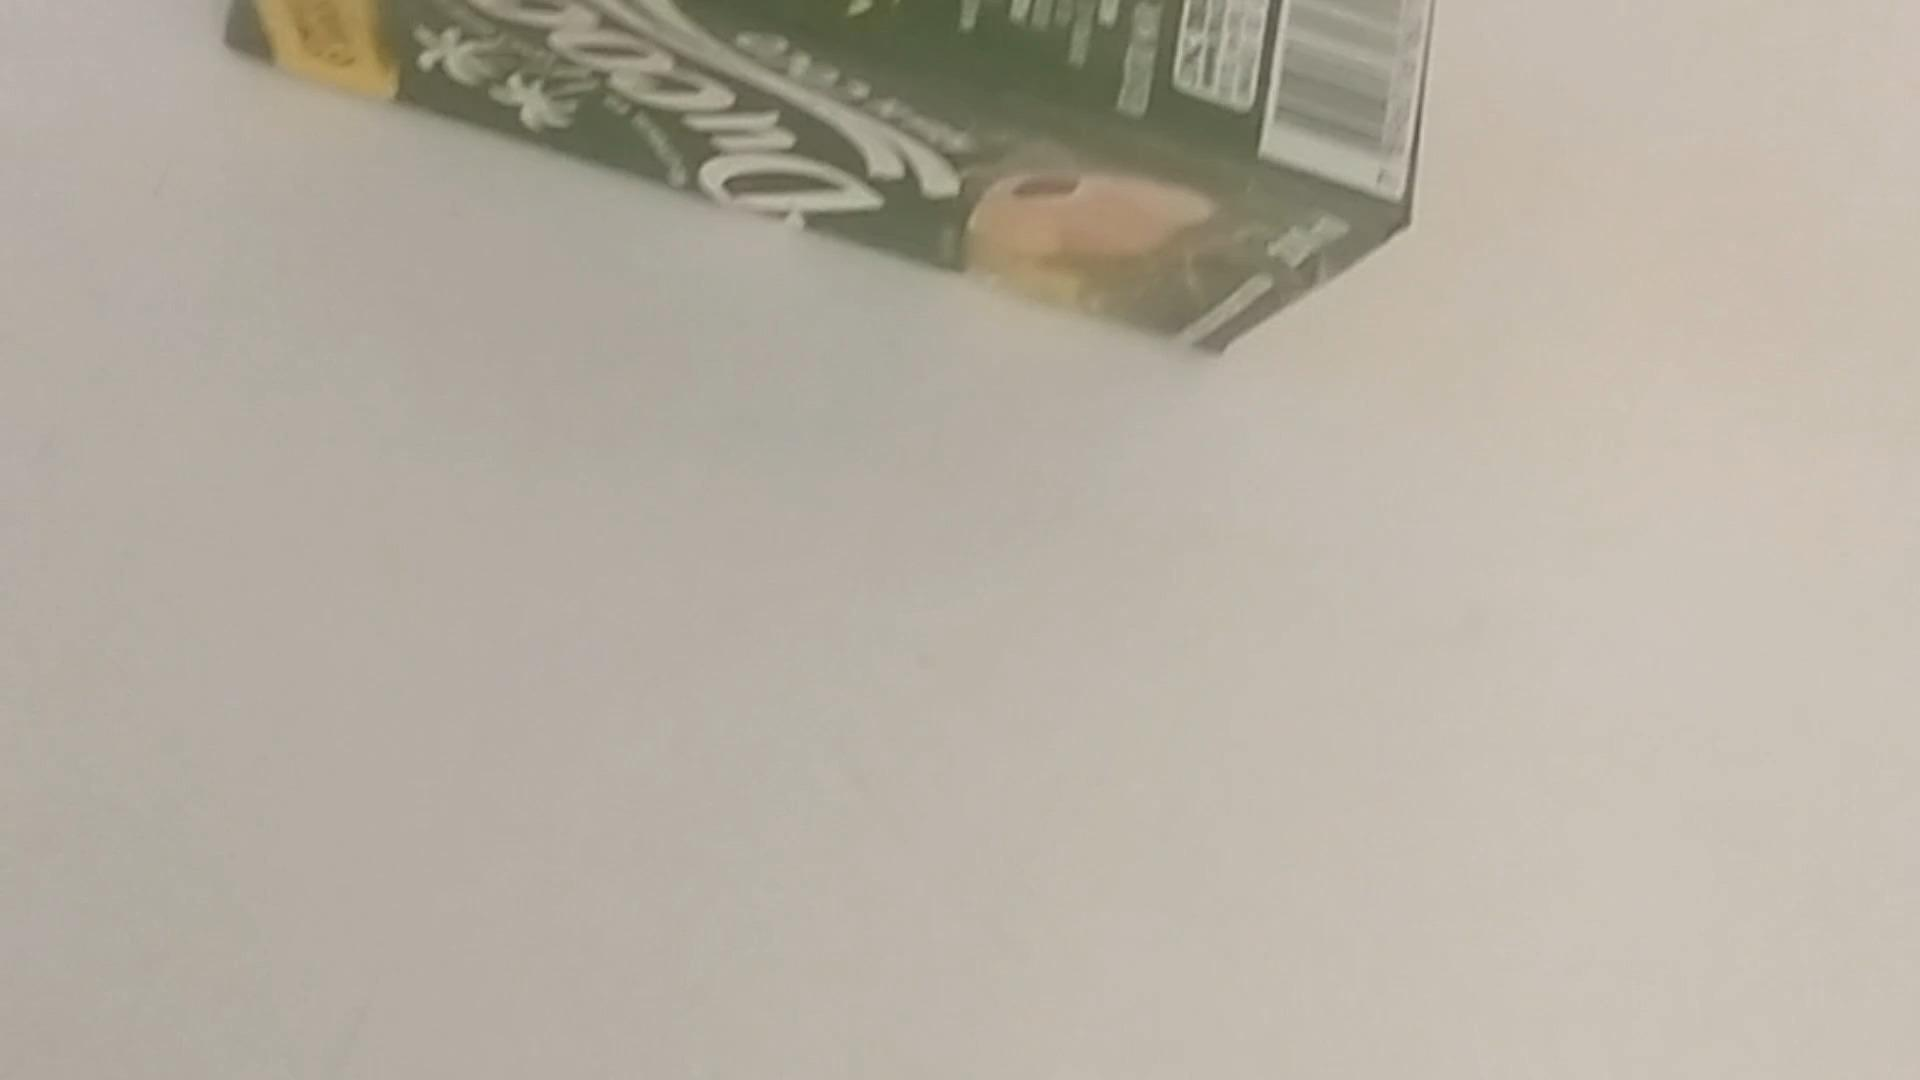coco: (215, 0, 1443, 365)
